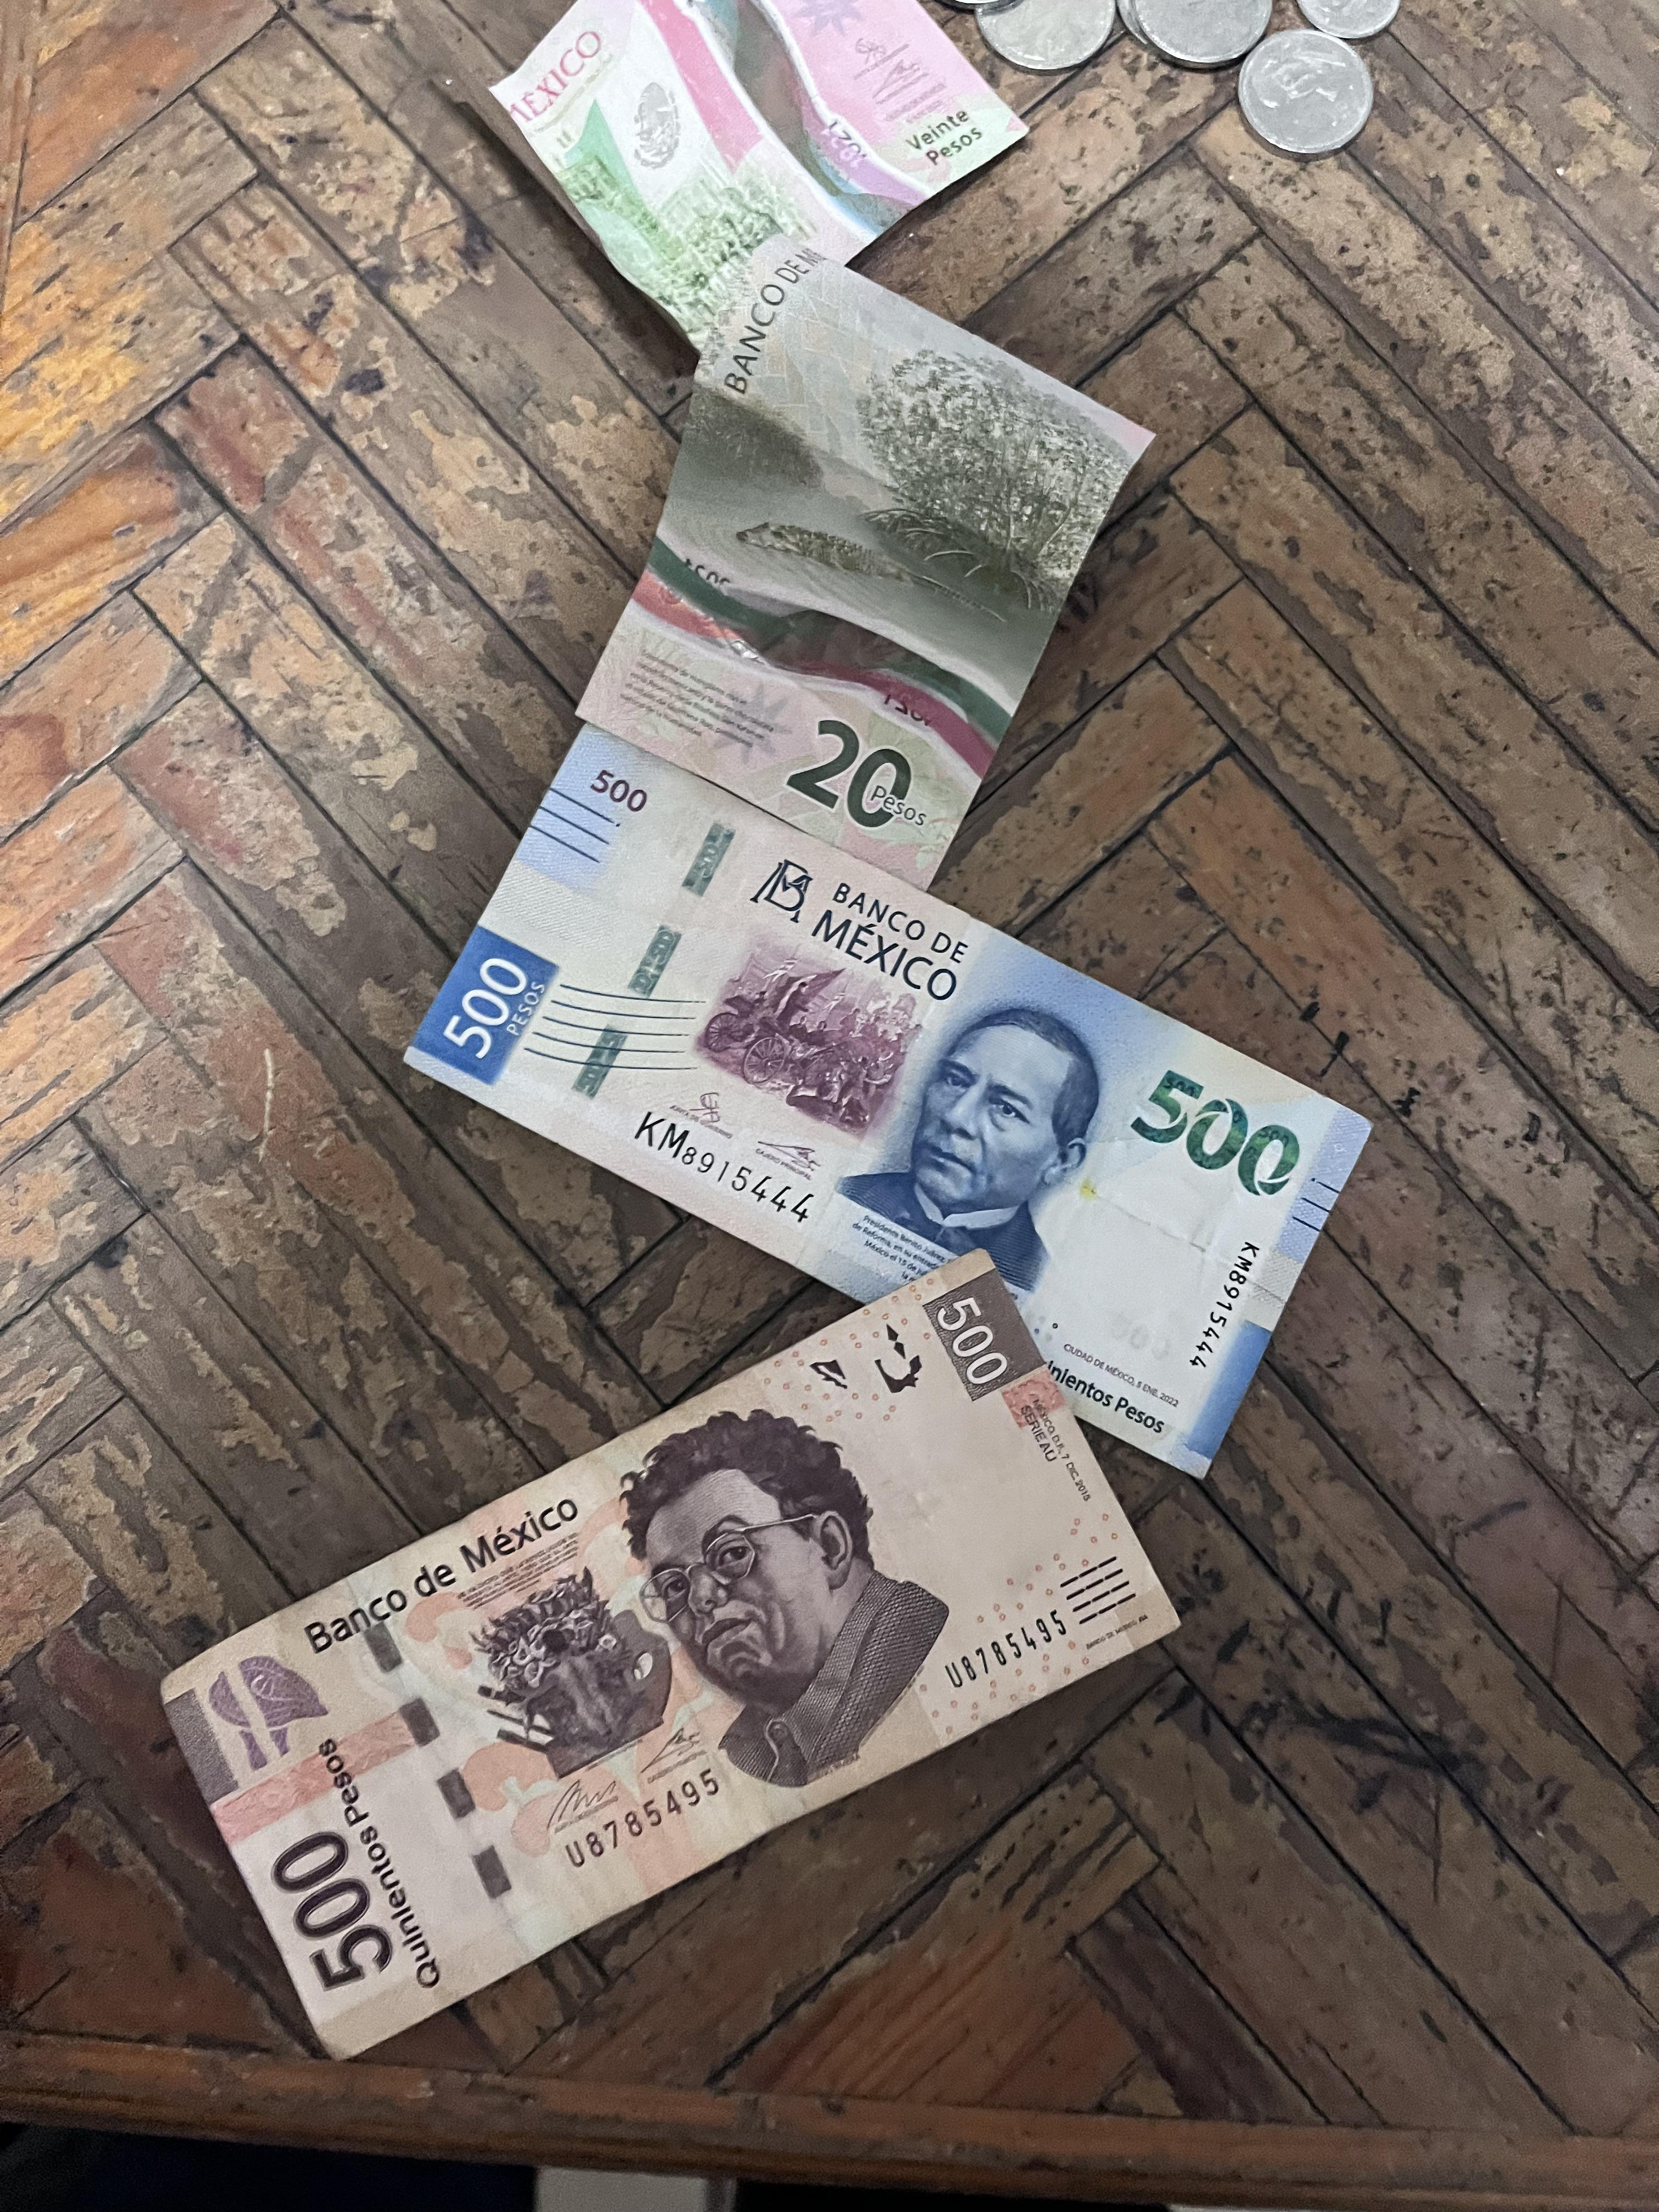20: (568, 251, 1166, 890), (458, 0, 1033, 374)
500: (159, 1237, 1202, 2073)
500 nuevo: (387, 719, 1389, 1484)
